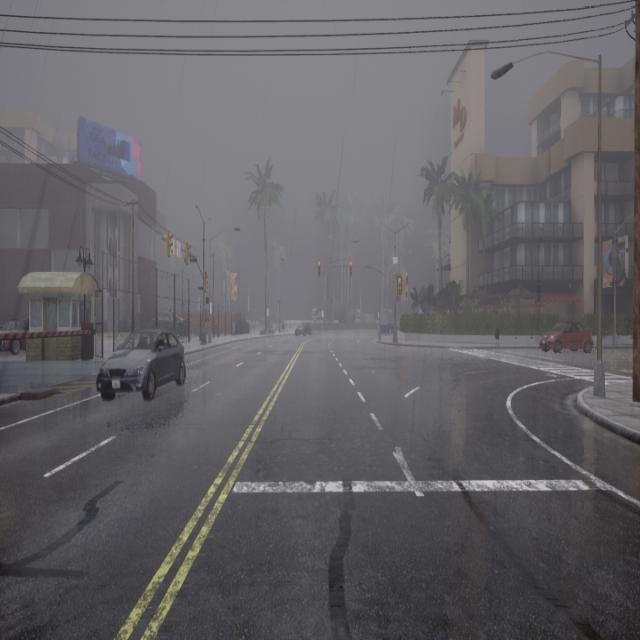bien_chi_dan: (167, 231, 173, 258), (186, 243, 192, 266), (317, 260, 321, 278), (205, 271, 208, 292), (349, 259, 352, 278), (398, 277, 401, 294), (349, 260, 352, 266), (169, 251, 172, 255), (205, 287, 208, 291), (318, 260, 320, 266), (398, 278, 401, 282), (188, 260, 190, 264)
